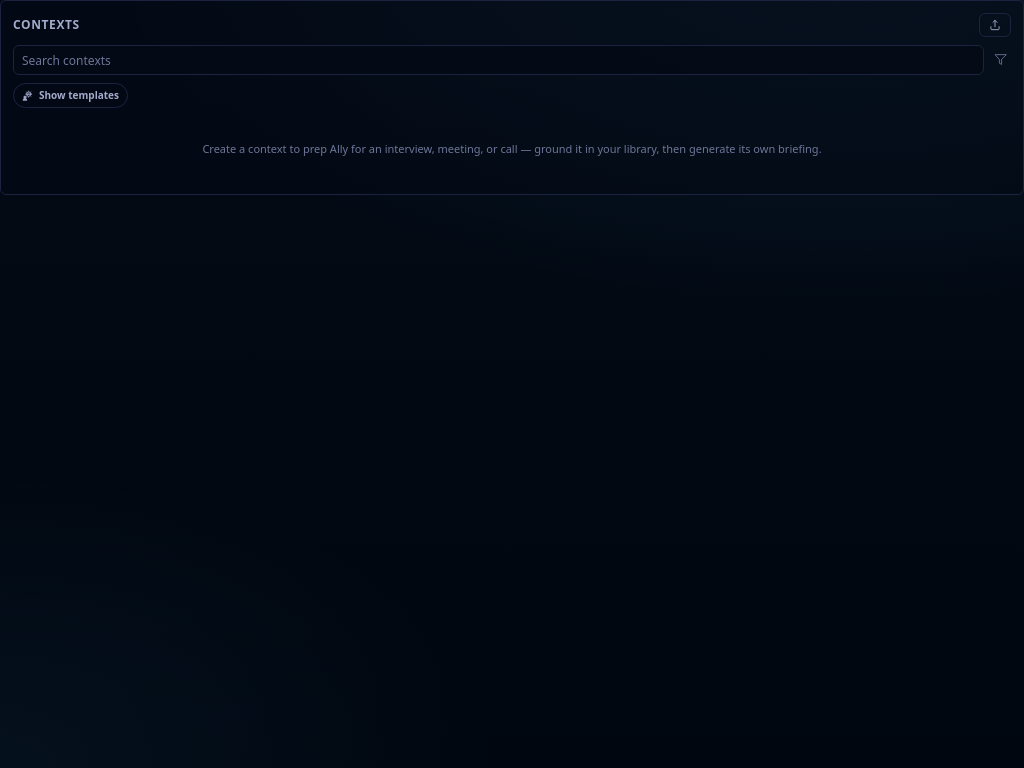
Test: ContextsPane › hides the General conversation template by default and reveals it without a priority border
Click the button "Show templates": (70, 96) [13,83,128,108]
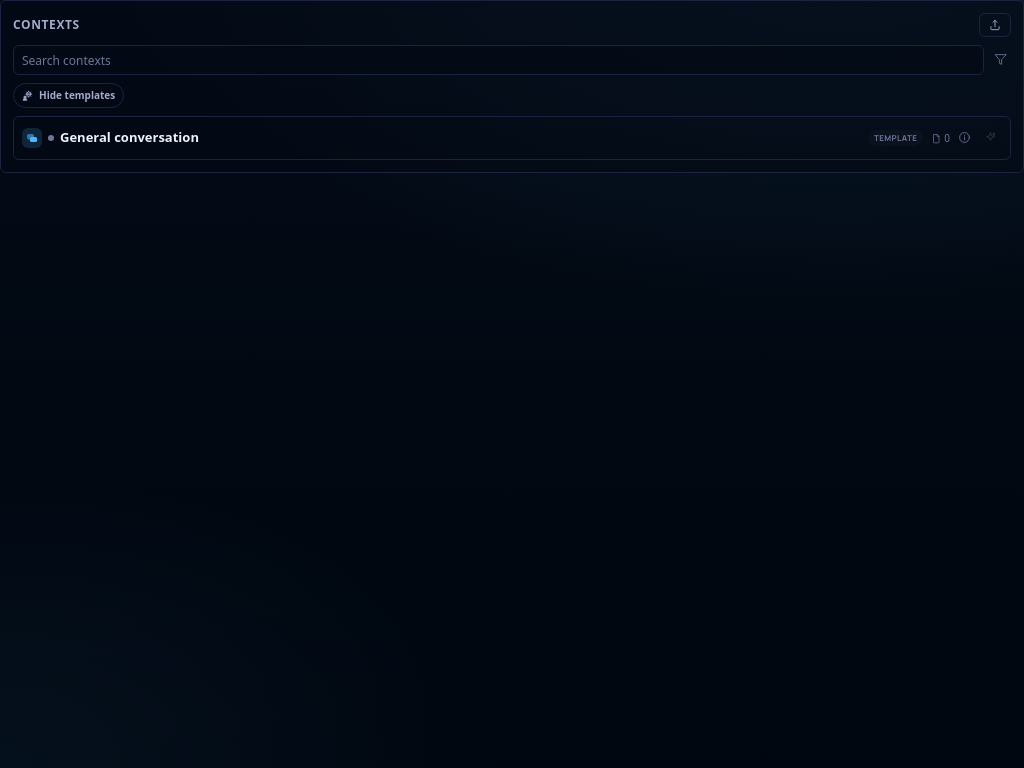
Expected: the text "Template" is shown, [868,130,923,146]
